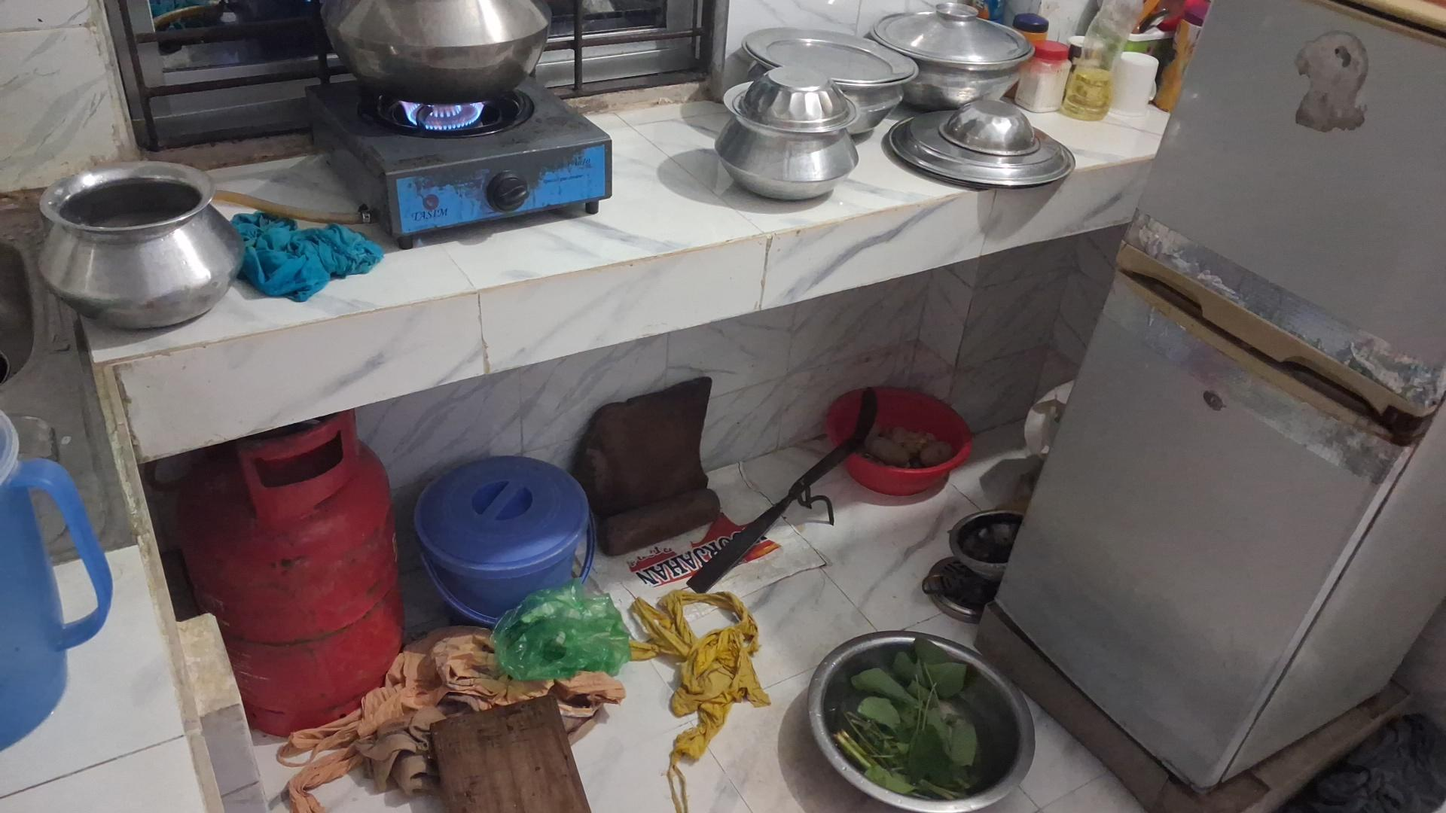Bottle: (1063, 5, 1139, 121)
Bowl: (807, 629, 1035, 811), (826, 385, 974, 496), (945, 106, 1042, 153)
Bucket: (415, 457, 597, 625)
Cup: (1109, 51, 1160, 111)
Plate: (883, 120, 1080, 190)
Pot: (36, 160, 246, 330), (335, 3, 554, 106), (715, 72, 865, 202), (875, 0, 1035, 106)
